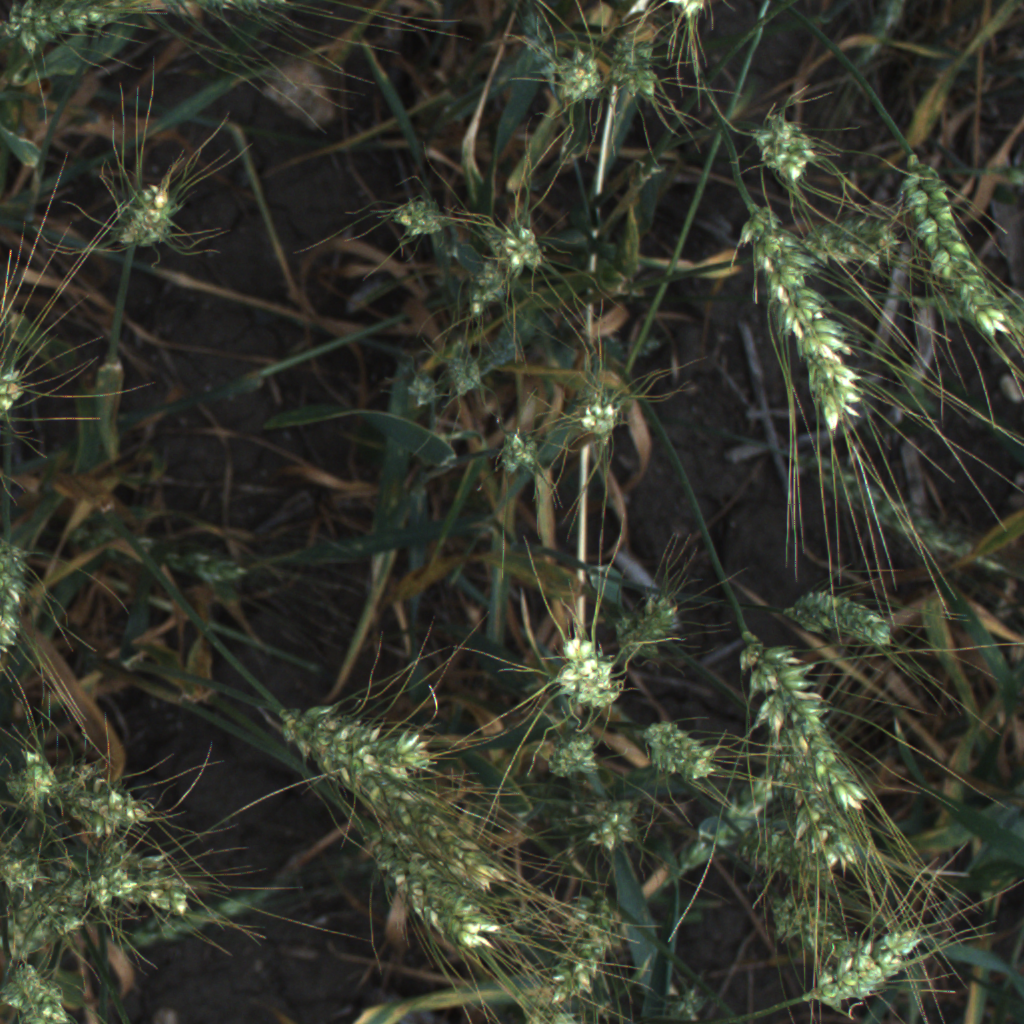wheat_head: (270, 700, 519, 887), (722, 204, 878, 447), (725, 625, 874, 820), (788, 452, 1015, 576), (896, 148, 1019, 349), (350, 817, 507, 959), (665, 753, 795, 879), (288, 694, 457, 778), (809, 916, 944, 1019), (770, 579, 906, 663), (542, 880, 623, 1017), (719, 816, 848, 896), (0, 879, 92, 979), (760, 885, 870, 967), (734, 97, 827, 190), (2, 0, 166, 52), (467, 210, 535, 322), (62, 764, 159, 841), (635, 711, 721, 791), (110, 173, 190, 258), (792, 209, 900, 271), (636, 574, 707, 665), (554, 625, 623, 712), (379, 179, 464, 247), (597, 31, 677, 103), (0, 511, 37, 665), (0, 961, 83, 1024), (535, 719, 611, 784), (579, 791, 647, 859), (116, 873, 204, 924), (538, 45, 605, 111), (1, 743, 62, 813), (566, 391, 643, 444), (80, 864, 142, 912), (501, 221, 562, 267), (494, 426, 542, 484), (0, 851, 54, 898), (0, 358, 34, 426), (657, 0, 718, 26)
